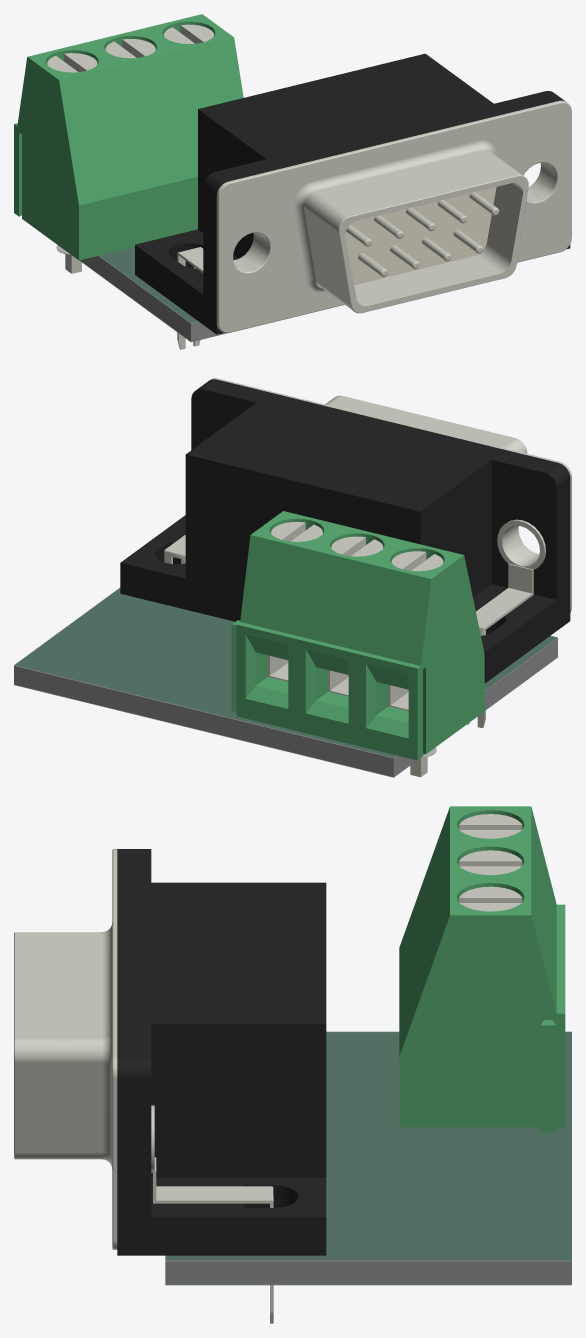
File: carte_db9.glb
The picture shows the model from 3 angles, top to bottom: view 1: azimuth 30°, elevation 25°; view 2: azimuth 150°, elevation 25°; view 3: azimuth 270°, elevation 25°; orthographic projection. The views are drawn at different scales.
Visible parts, largest first — view 1: REF**, =>[0:1:1:7], =>[0:1:1:5]; view 2: REF**, =>[0:1:1:7], =>[0:1:1:5]; view 3: REF**, =>[0:1:1:7], =>[0:1:1:5].
Boxes of the visible parts, x1,y1,x2,y2 form: REF**: (14,14,571,349); =>[0:1:1:7]: (80,247,225,341); =>[0:1:1:5]: (79,247,228,342); REF**: (120,378,571,777); =>[0:1:1:7]: (14,589,557,776); =>[0:1:1:5]: (14,587,557,777); REF**: (14,806,565,1323); =>[0:1:1:7]: (165,1033,571,1284); =>[0:1:1:5]: (165,1031,571,1285).
Size of the model in its own units: 0.0338 by 0.0192 by 0.0329.
4 materials, 4 textured.
